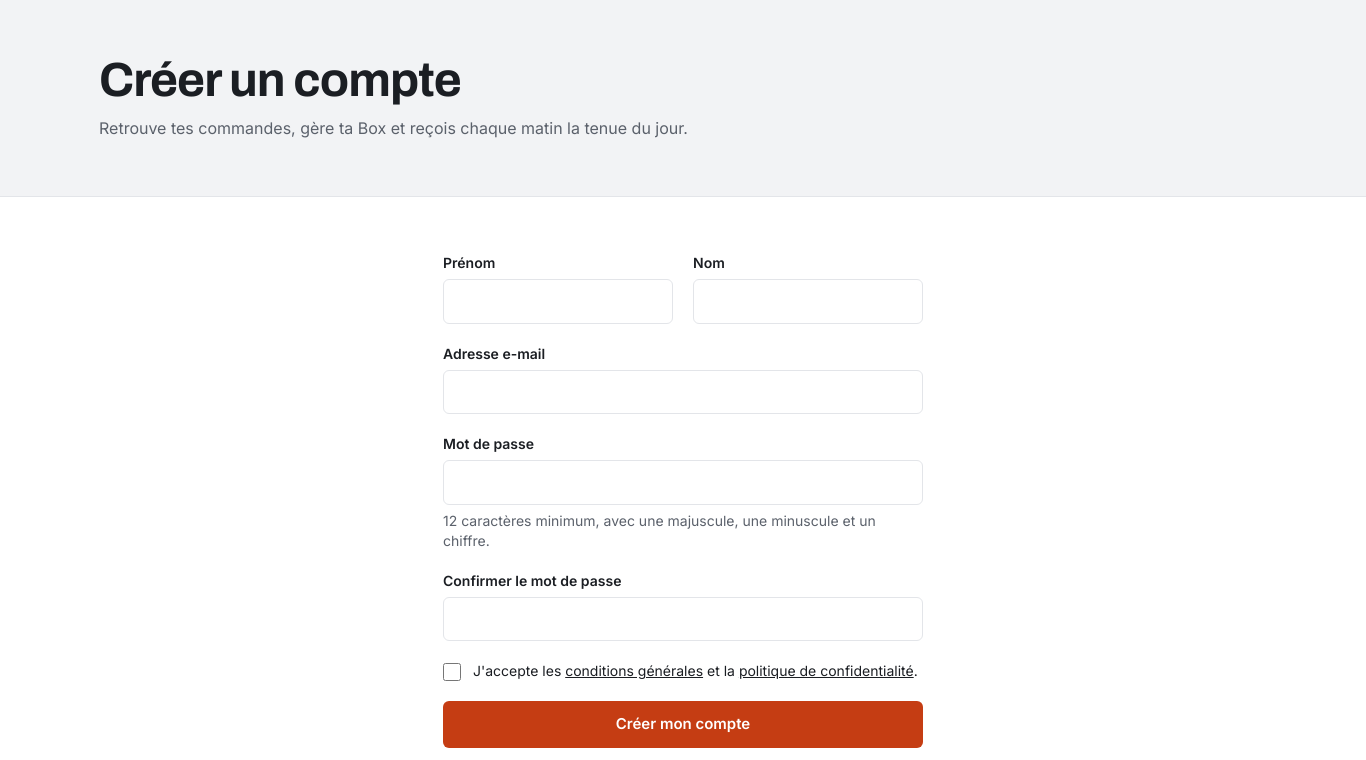
Scenario: Register › affiche les erreurs et place le focus sur le premier champ invalide
The image size is (1366, 760).
Click the button "Créer mon compte" at x=683, y=724, box [443, 701, 923, 748]
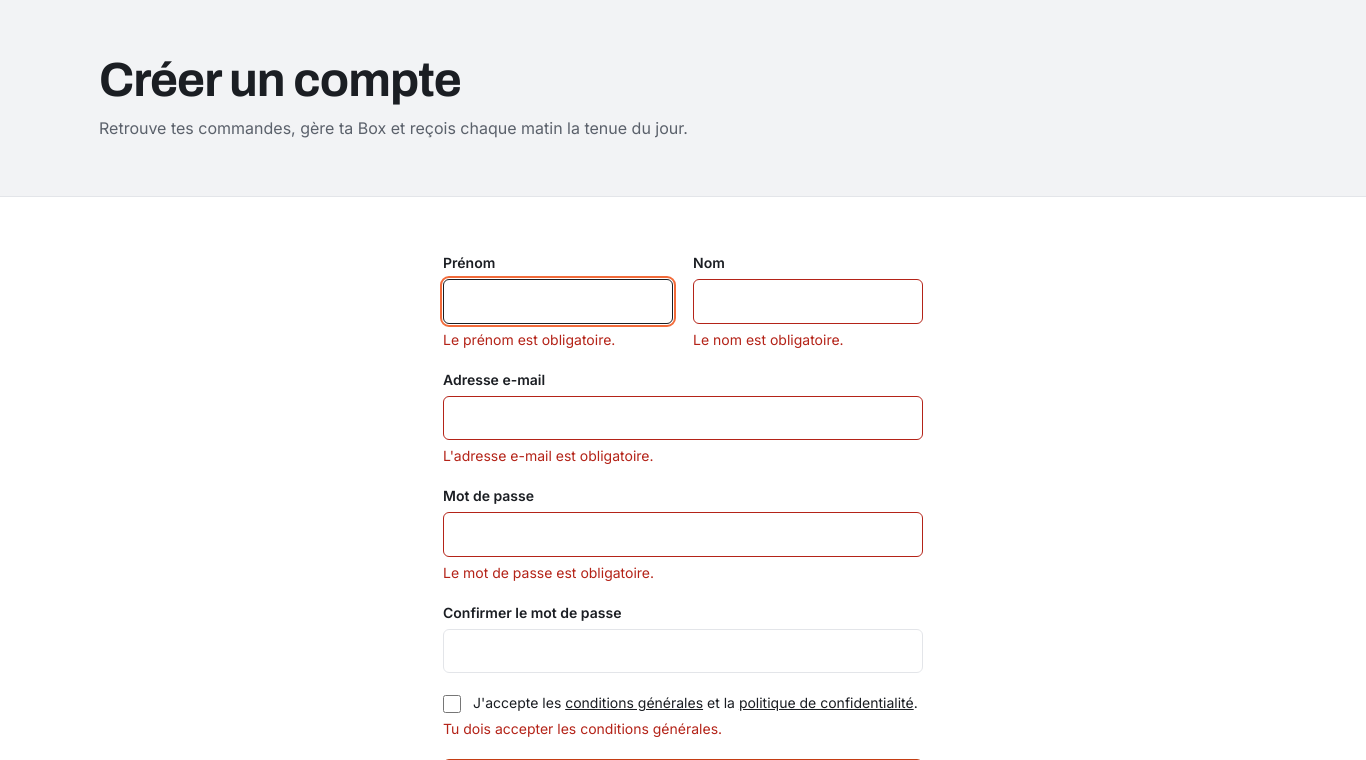
Result: the text "Le prénom est obligatoire." is shown at [443, 330, 615, 348]
